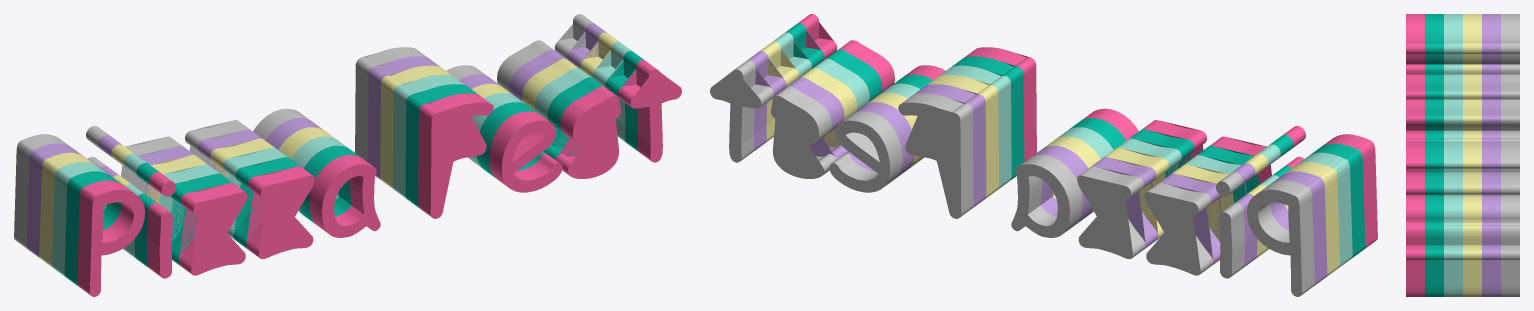
File: PizzaFestText_geo.fbx
The picture shows the model from 3 angles, left to right: view 1: azimuth 30°, elevation 25°; view 2: azimuth 150°, elevation 25°; view 3: azimuth 270°, elevation 25°; orthographic projection. The views are drawn at different scales.
Visible parts, largest first — view 1: PizzaFestVar5, PizzaFestVar4, PizzaFestVar3, PizzaFestVar, PizzaFestVar2, PizzaFestVar1; view 2: PizzaFestVar, PizzaFestVar1, PizzaFestVar2, PizzaFestVar4, PizzaFestVar5, PizzaFestVar3; view 3: PizzaFestVar5, PizzaFestVar4, PizzaFestVar3, PizzaFestVar2, PizzaFestVar1, PizzaFestVar.
Boxes of the visible parts, box(x1,y1,x2,y2) form: PizzaFestVar5: box(77, 60, 681, 296); PizzaFestVar4: box(64, 51, 665, 286); PizzaFestVar3: box(52, 41, 631, 276); PizzaFestVar: box(14, 14, 593, 248); PizzaFestVar2: box(39, 32, 618, 267); PizzaFestVar1: box(26, 23, 606, 257); PizzaFestVar: box(710, 60, 1314, 296); PizzaFestVar1: box(747, 51, 1327, 286); PizzaFestVar2: box(760, 41, 1339, 276); PizzaFestVar4: box(785, 23, 1365, 257); PizzaFestVar5: box(798, 14, 1377, 248); PizzaFestVar3: box(773, 32, 1352, 267); PizzaFestVar5: box(1406, 14, 1424, 296); PizzaFestVar4: box(1425, 14, 1443, 296); PizzaFestVar3: box(1444, 14, 1462, 296); PizzaFestVar2: box(1463, 14, 1481, 296); PizzaFestVar1: box(1482, 14, 1500, 296); PizzaFestVar: box(1501, 14, 1519, 296).
Bounding box in the file's own units: 67.62 × 11.71 × 15.
1 material, 1 textured.
